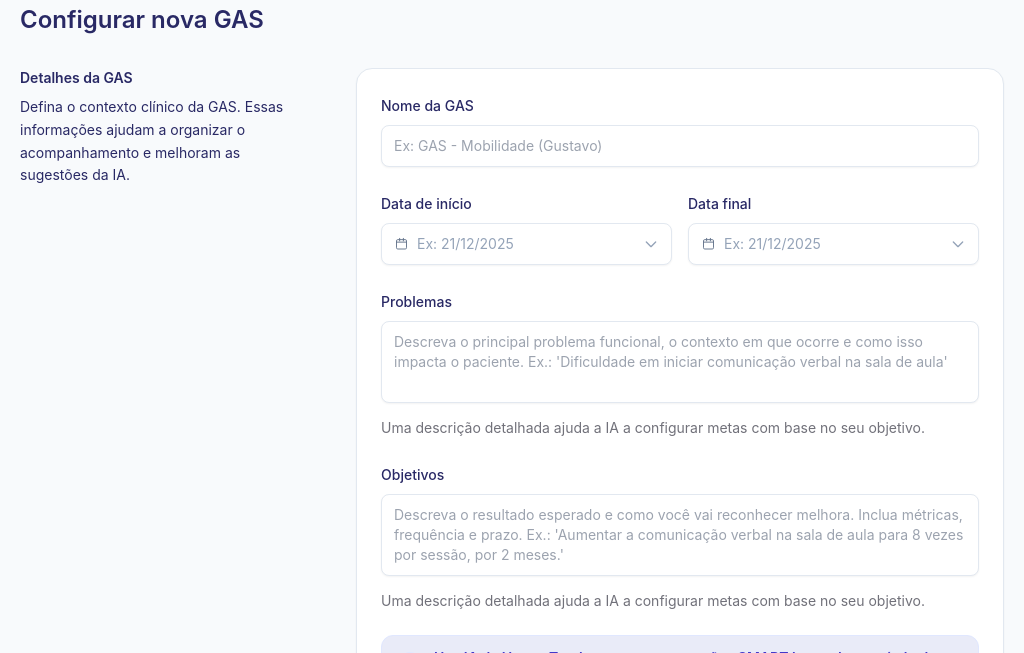
App - Integration Tests › 4. Validações Obrigatórias para Salvar GAS › deve validar ao menos 1 meta completa (todos os campos)
The image size is (1024, 653).
# Preenche Nome, Paciente e Telefone
In the field with placeholder "Ex: GAS - Mobilidade (Gustavo)": (680, 146) [381,125,979,167], type "Minha GAS"
(page scrolled)
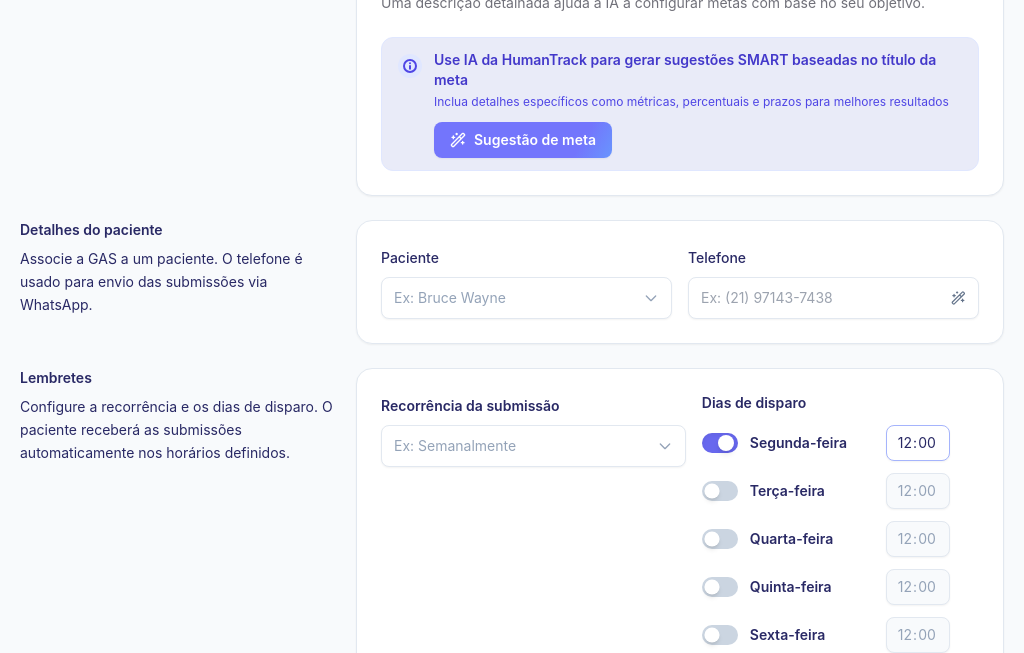
Click the button "Ex: Bruce Wayne": click(450, 298) [381,277,672,319]
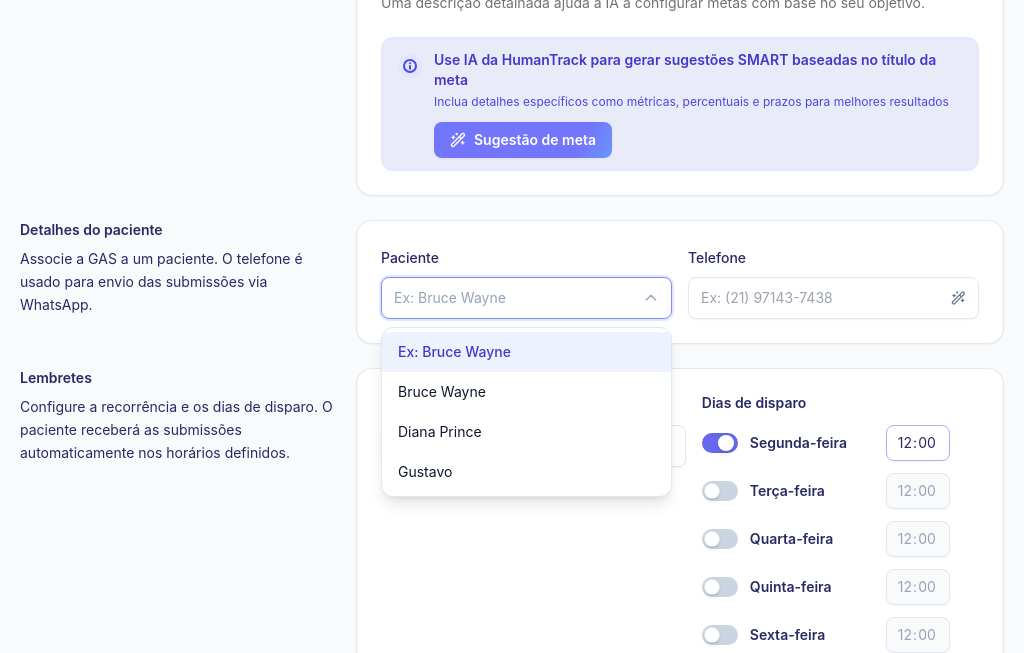
Click the button "Bruce Wayne": click(442, 392) [382,372,671,412]
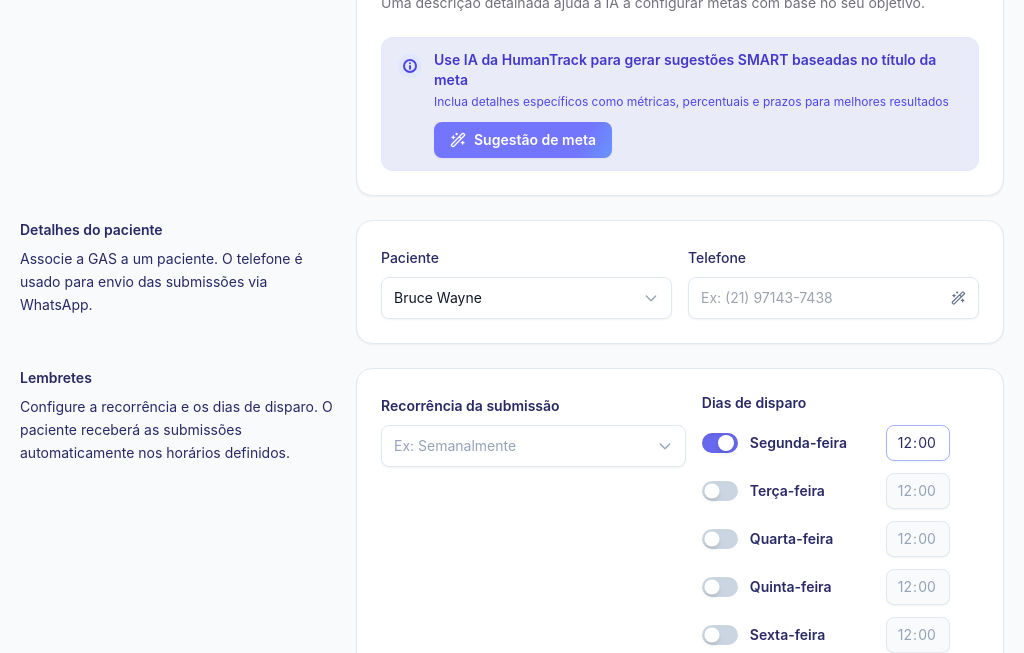
In the field with placeholder "Ex: (21) 97143-7438": (822, 298) [701,288,943,308], type "21971437438"
(page scrolled)
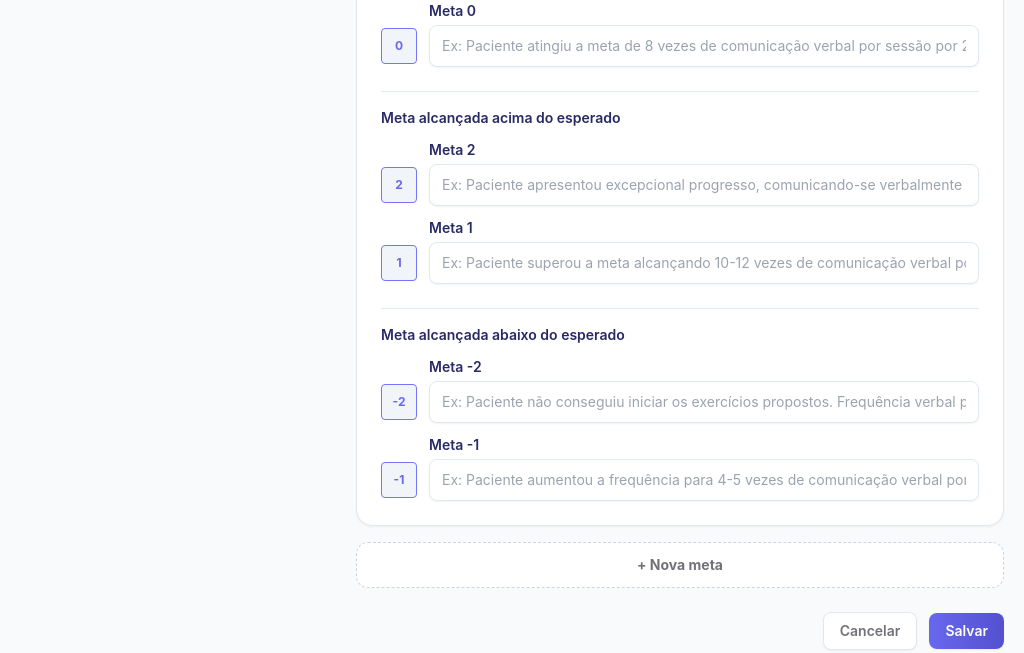
# Tenta salvar sem preencher meta completa
Click the button "Salvar": click(967, 631) [929,613,1004,649]
(page scrolled)
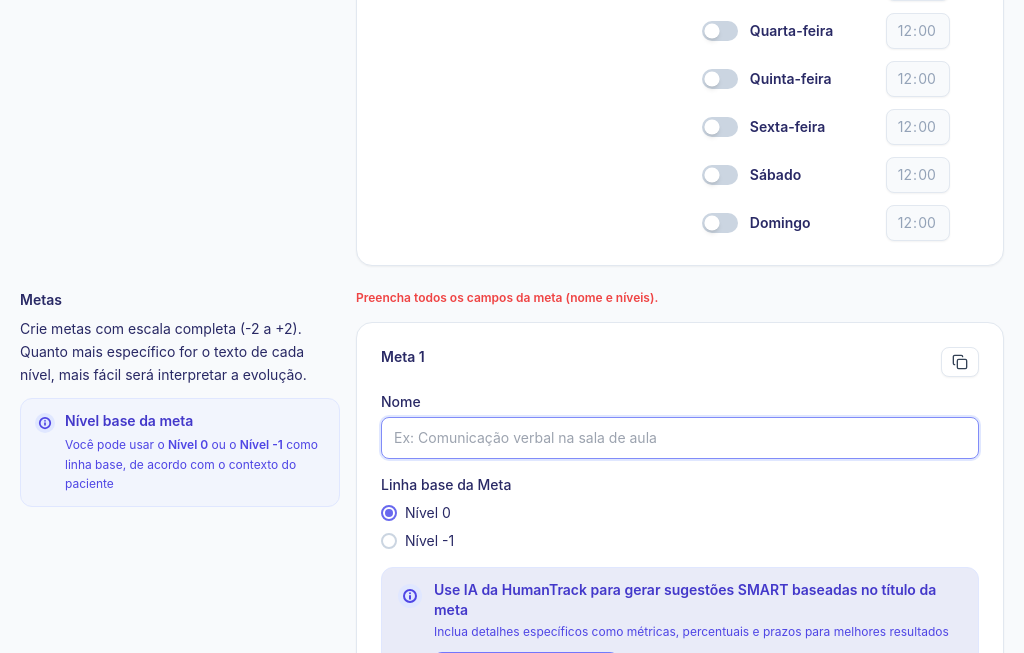
Expected: the text "Preencha todos os campos da meta (nome e níveis)." is shown, [356,290,658,305]
